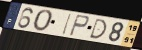6: (17, 7, 34, 29)
8: (108, 21, 124, 43)
D: (88, 18, 108, 40)
I: (61, 13, 73, 36)
O: (32, 9, 54, 33)
P: (68, 14, 90, 38)
